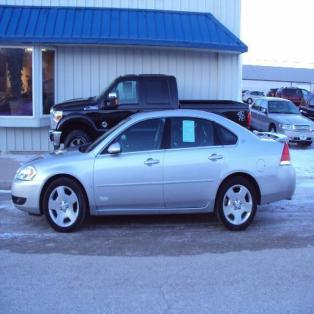Auto: (10, 107, 297, 234)
